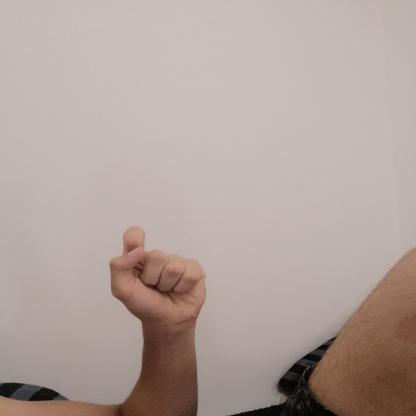FAA: (96, 217, 218, 333)
